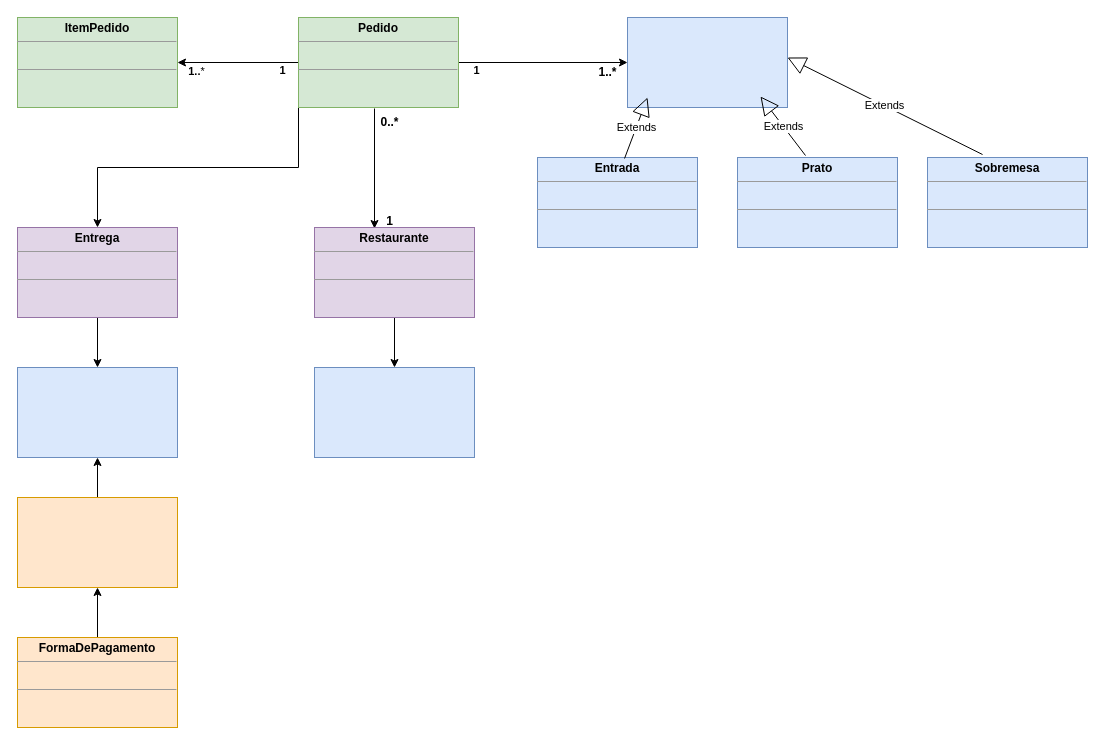
Image size: 1105x745. Some labels were removed from this diagram. Here are the shapes that lost their labels. From the top down, the box of each, then its label:
(626, 16, 788, 108): Cardapio
(16, 366, 178, 458): Cliente
(314, 366, 474, 458): TipoDeCozinha
(16, 496, 178, 588): Pagamento
